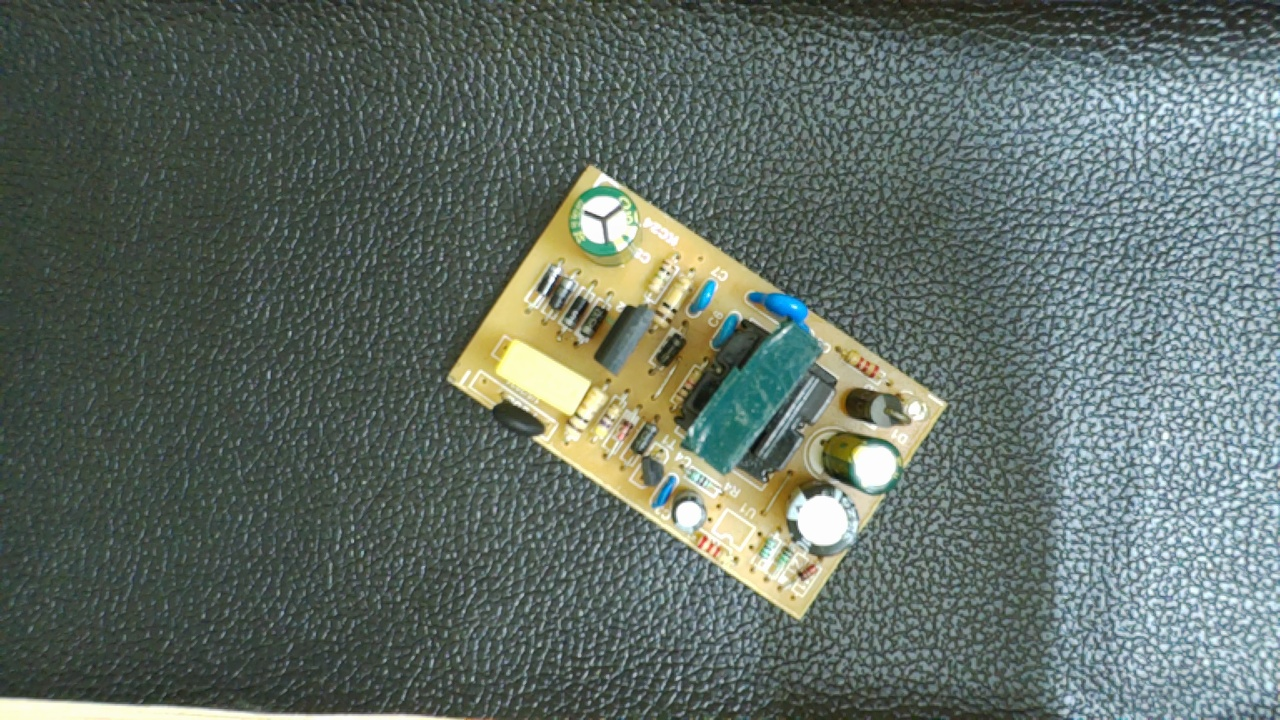fuse: (482, 386, 558, 443)
hv_capacitor: (563, 182, 650, 266)
mov: (747, 287, 815, 330)
